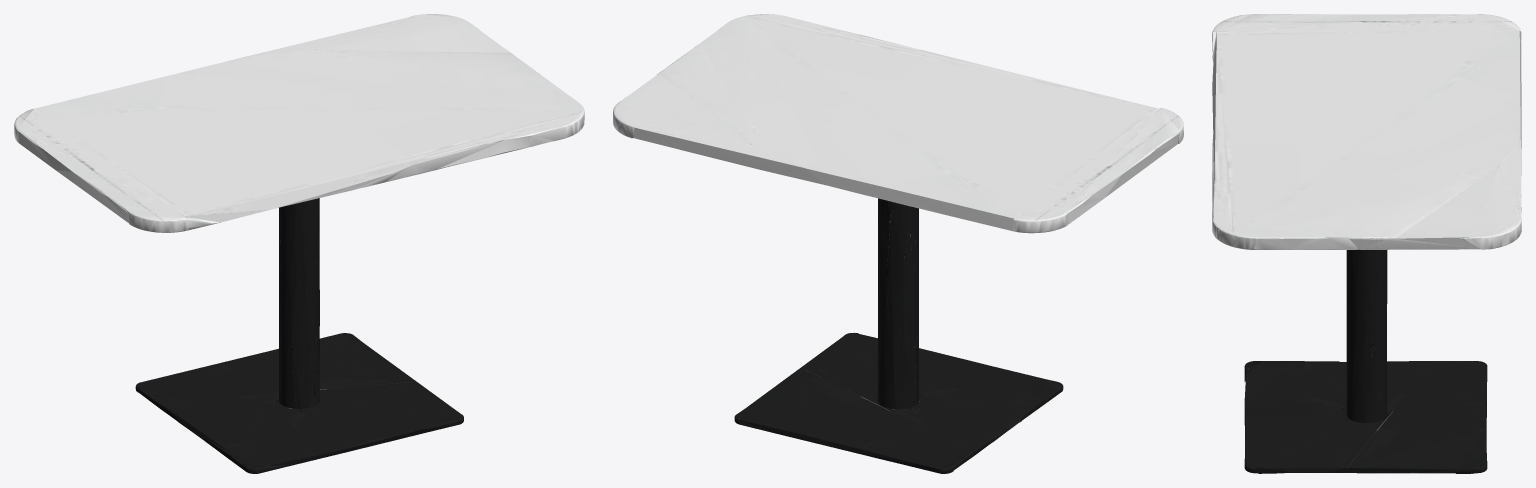
The model's file is booth_table.glb.
3 renders of one model, left to right at view 1: azimuth 30°, elevation 25°; view 2: azimuth 150°, elevation 25°; view 3: azimuth 270°, elevation 25°, orthographic.
Visible parts, largest first — view 1: 0; view 2: 0; view 3: 0.
Part boxes in pixels (x1,y1,x2,y2): 0: [14, 14, 584, 473]; 0: [613, 14, 1183, 473]; 0: [1212, 14, 1521, 473].
Size of the model in its own units: 1.2 by 0.75 by 0.7.
1 material, 1 textured.
